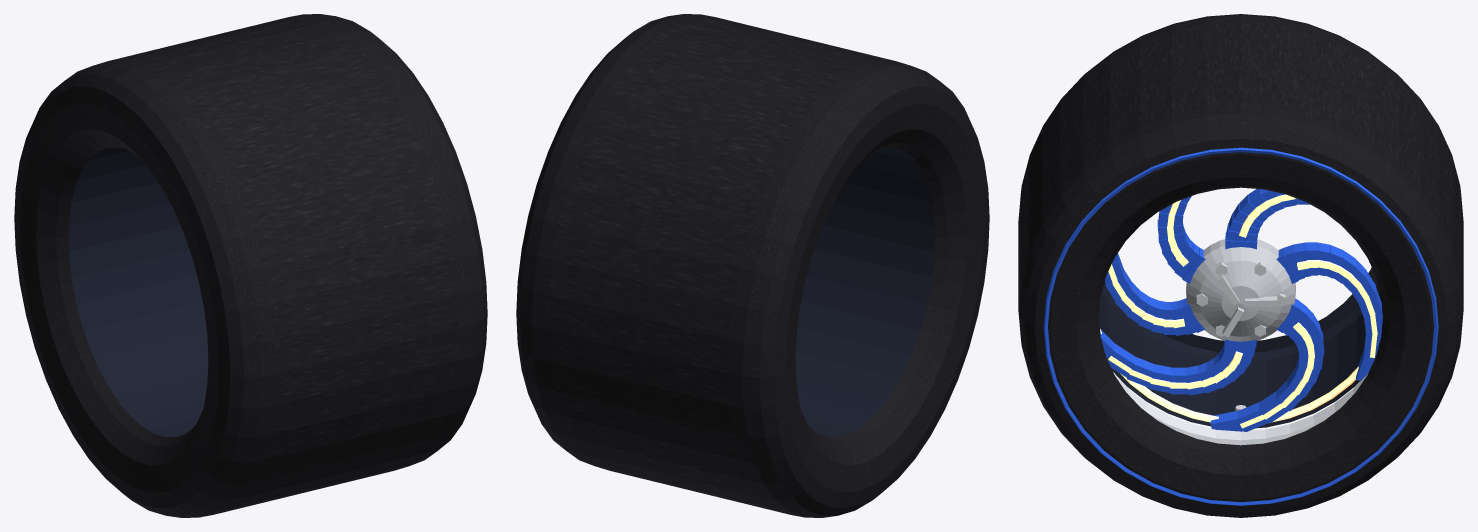
The model's file is tyre-vortex-lp.glb.
The picture shows the model from 3 angles, left to right: view 1: azimuth 30°, elevation 25°; view 2: azimuth 150°, elevation 25°; view 3: azimuth 270°, elevation 25°; orthographic projection. The views are drawn at different scales.
Visible parts, largest first — view 1: Tyre_Rubber, Rim; view 2: Tyre_Rubber, Rim; view 3: Tyre_Rubber, Rim_Spokes, Rim, Hub, Tyre_Stripe, Rim_Lip, Chrome, LED_Ring, LED_Seg_1, LED_Seg_5, LED_Seg_6, LED_Seg_2 (+2 smaller).
Boxes of the visible parts, bbox=[...] form: Tyre_Rubber: bbox=[14, 14, 487, 517]; Rim: bbox=[68, 147, 208, 437]; Tyre_Rubber: bbox=[516, 14, 989, 517]; Rim: bbox=[795, 147, 935, 437]; Tyre_Rubber: bbox=[1018, 14, 1463, 517]; Rim_Spokes: bbox=[1100, 189, 1382, 431]; Rim: bbox=[1099, 267, 1382, 428]; Hub: bbox=[1186, 239, 1295, 341]; Tyre_Stripe: bbox=[1043, 147, 1438, 505]; Rim_Lip: bbox=[1113, 373, 1367, 445]; Chrome: bbox=[1196, 261, 1285, 411]; LED_Ring: bbox=[1100, 329, 1358, 422]; LED_Seg_1: bbox=[1108, 351, 1242, 389]; LED_Seg_5: bbox=[1297, 259, 1377, 357]; LED_Seg_6: bbox=[1240, 322, 1314, 428]; LED_Seg_2: bbox=[1108, 264, 1184, 328].
Size of the model in its own units: 0.1803 by 0.276 by 0.276.
Materials: 14 (1 with a texture image).
